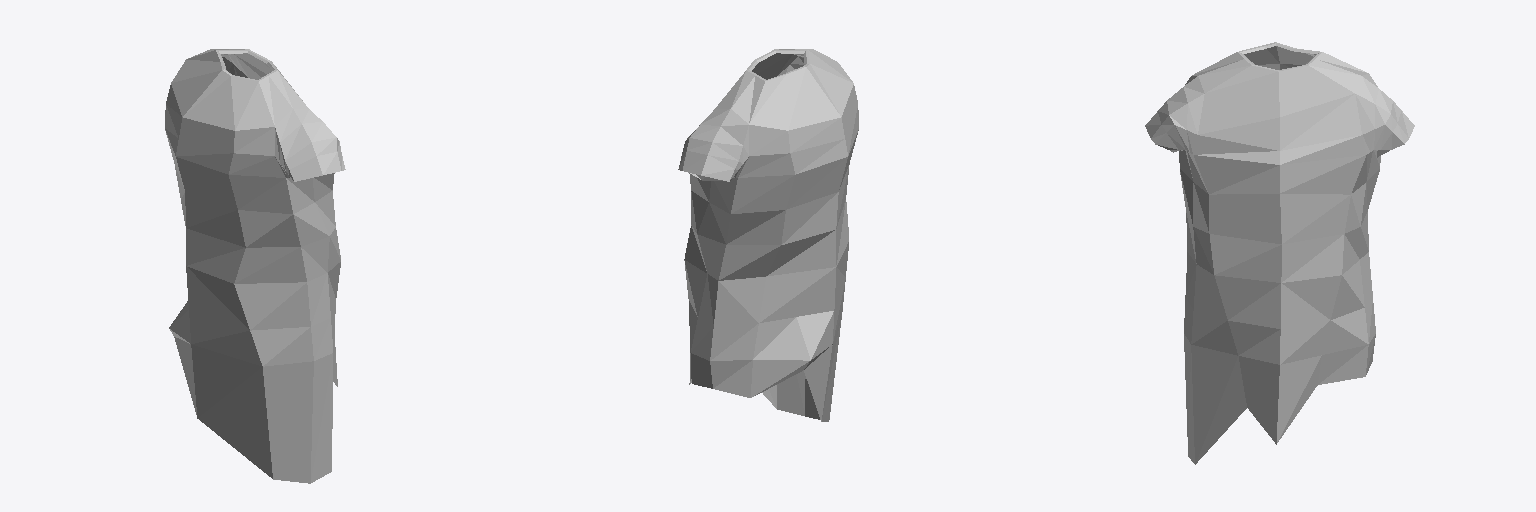
File: Enemy_Shirt.obj
The picture shows the model from 3 angles: view 1: azimuth 30°, elevation 25°; view 2: azimuth 150°, elevation 25°; view 3: azimuth 270°, elevation 25°; orthographic projection.
Visible parts, largest first — view 1: polySurface379; view 2: polySurface379; view 3: polySurface379.
Part boxes in pixels (left/top/right/bottom): polySurface379: left=165, top=49, right=345, bottom=483; polySurface379: left=678, top=49, right=858, bottom=421; polySurface379: left=1145, top=42, right=1414, bottom=464.
Bounding box in the file's own units: 2.49 × 5.83 × 3.63.